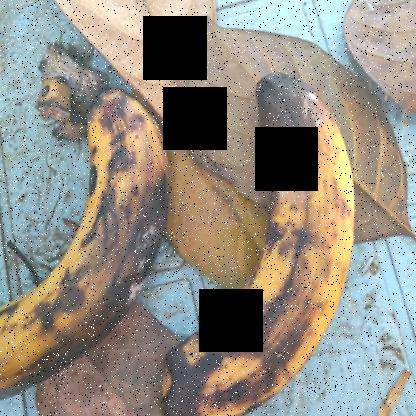rotten: (158, 66, 358, 415), (1, 48, 183, 400)
